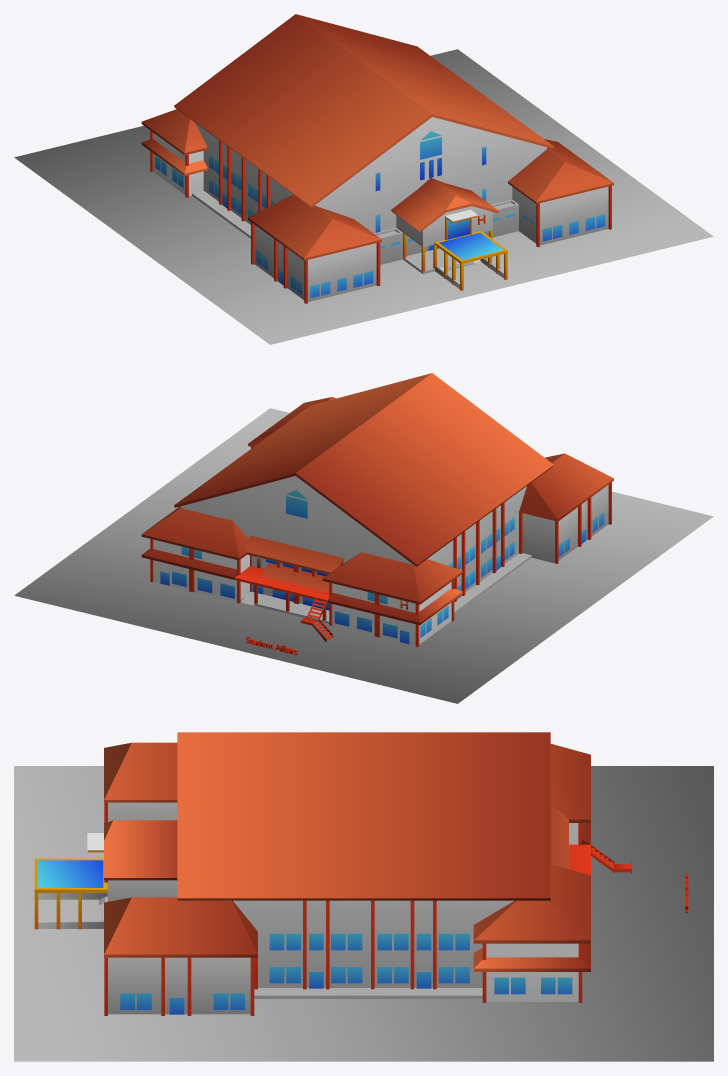
File: Gedung GSG 1.fbx
3 views of the same model, one above another, from view 1: azimuth 30°, elevation 25°; view 2: azimuth 150°, elevation 25°; view 3: azimuth 270°, elevation 25° (orthographic). The views are drawn at different scales.
Parts seen in each view (by area): view 1: Plane.001; view 2: Plane.001; view 3: Plane.001.
Boxes of the visible parts, x1,y1,x2,y2 form: Plane.001: [14, 14, 713, 344]; Plane.001: [14, 373, 713, 703]; Plane.001: [14, 732, 713, 1061].
Size of the model in its own units: 9561 by 2740 by 9561.
Materials: 1 (1 with a texture image).
